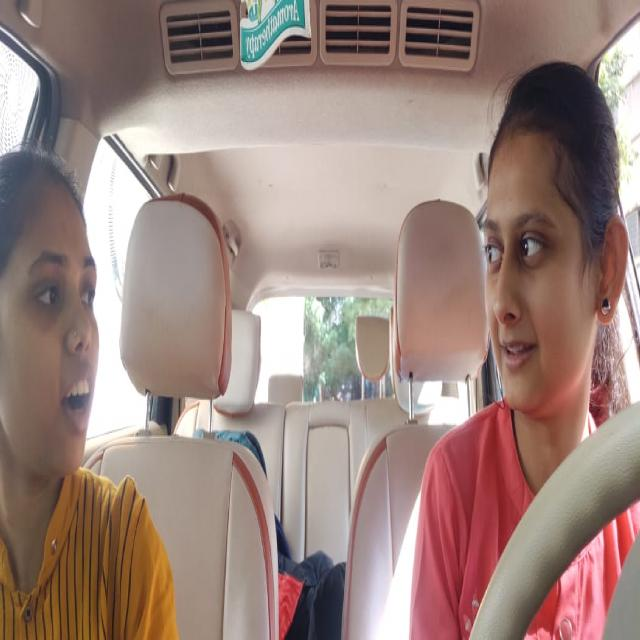LeftRight: (476, 62, 625, 436)
person: (0, 140, 112, 505)
talking: (58, 354, 102, 440), (493, 322, 542, 381)
